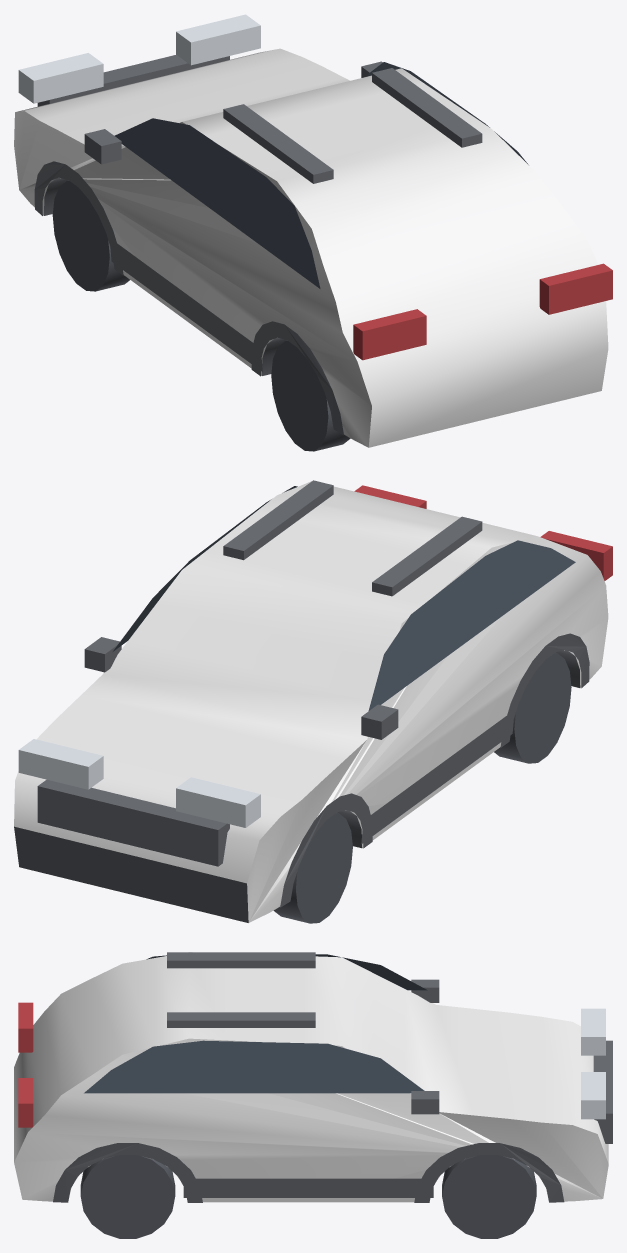
File: coche-esquema.glb
The picture shows the model from 3 angles, top to bottom: view 1: azimuth 30°, elevation 25°; view 2: azimuth 150°, elevation 25°; view 3: azimuth 270°, elevation 25°; orthographic projection. The views are drawn at different scales.
Parts seen in each view (by area): view 1: carroceria, cristal_lateral_izq, ruedas, faldon_izq, faro_izq, faro_der, barra_techo_der, barra_techo_izq, piloto_izq, piloto_der, rejilla, moldura_tras_izq (+3 smaller); view 2: carroceria, cristal_lateral_izq, molduras, ruedas, rejilla, faldon_izq, faro_der, faro_izq, barra_techo_der, barra_techo_izq, moldura_del_izq, moldura_tras_izq (+5 smaller); view 3: carroceria, cristal_lateral_der, ruedas, faldon_der, moldura_tras_der, moldura_del_der, barra_techo_izq, barra_techo_der, faro_der, faro_izq, rejilla, piloto_izq (+4 smaller).
Boxes of the visible parts, bbox=[...] form: carroceria: bbox=[14, 48, 608, 447]; cristal_lateral_izq: bbox=[114, 118, 320, 288]; ruedas: bbox=[52, 180, 350, 451]; faldon_izq: bbox=[110, 238, 262, 371]; faro_izq: bbox=[18, 53, 103, 103]; faro_der: bbox=[176, 14, 260, 65]; barra_techo_der: bbox=[372, 68, 482, 147]; barra_techo_izq: bbox=[223, 104, 333, 183]; piloto_izq: bbox=[353, 309, 426, 360]; piloto_der: bbox=[539, 263, 612, 314]; rejilla: bbox=[37, 54, 229, 106]; moldura_tras_izq: bbox=[251, 321, 343, 435]; carroceria: bbox=[14, 481, 608, 922]; cristal_lateral_izq: bbox=[368, 540, 575, 710]; molduras: bbox=[14, 650, 580, 922]; ruedas: bbox=[273, 652, 571, 923]; rejilla: bbox=[37, 779, 229, 866]; faldon_izq: bbox=[361, 710, 514, 844]; faro_der: bbox=[18, 739, 103, 789]; faro_izq: bbox=[176, 777, 260, 827]; barra_techo_der: bbox=[223, 480, 333, 560]; barra_techo_izq: bbox=[372, 516, 482, 596]; moldura_del_izq: bbox=[280, 793, 372, 907]; moldura_tras_izq: bbox=[500, 633, 589, 747]; carroceria: bbox=[14, 952, 608, 1202]; cristal_lateral_der: bbox=[84, 1040, 424, 1093]; ruedas: bbox=[80, 1155, 536, 1238]; faldon_der: bbox=[183, 1178, 433, 1197]; moldura_tras_der: bbox=[53, 1143, 202, 1202]; moldura_del_der: bbox=[414, 1143, 564, 1202]; barra_techo_izq: bbox=[167, 952, 315, 968]; barra_techo_der: bbox=[167, 1012, 315, 1027]; faro_der: bbox=[581, 1072, 605, 1119]; faro_izq: bbox=[581, 1008, 605, 1055]; rejilla: bbox=[593, 1040, 612, 1143]; piloto_izq: bbox=[18, 1002, 33, 1052].
Size of the model in its own units: 2.04 by 1.61 by 4.31.
